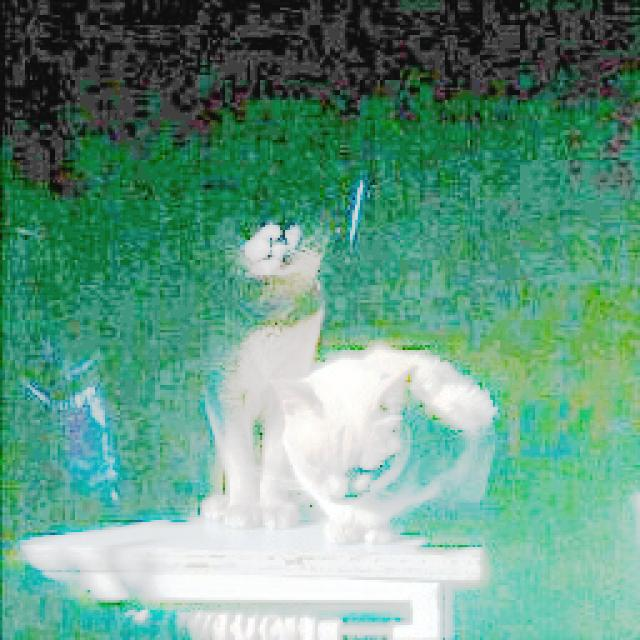cat: (267, 346, 509, 546), (197, 181, 321, 528)
